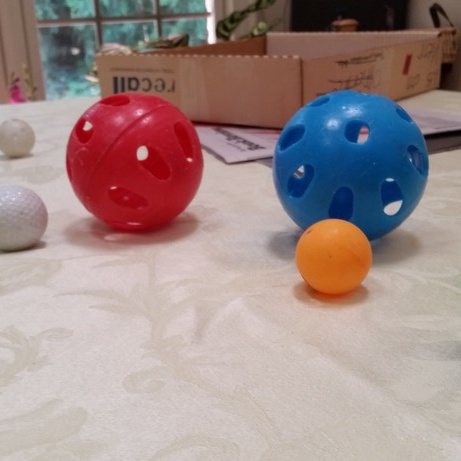ball: (264, 84, 432, 250), (64, 92, 208, 238)
